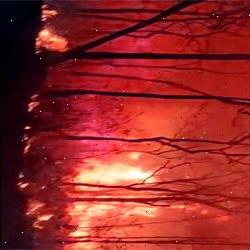fire: (14, 149, 188, 248)
